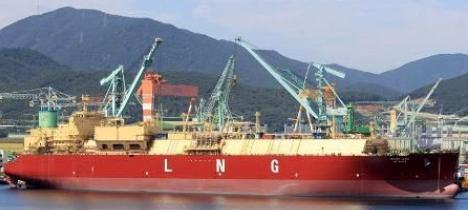Cargoship: (9, 39, 468, 200)
